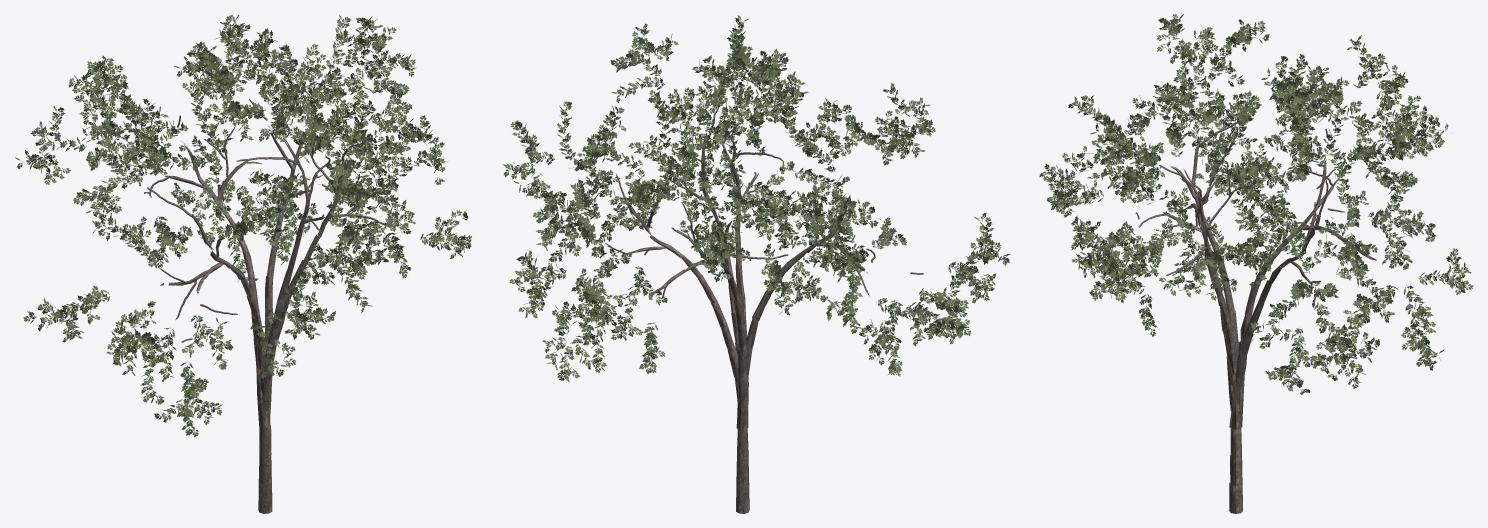
Rendered from elm3.glb.
The picture shows the model from 3 angles, left to right: view 1: azimuth 30°, elevation 25°; view 2: azimuth 150°, elevation 25°; view 3: azimuth 270°, elevation 25°; orthographic projection. The views are drawn at different scales.
Parts seen in each view (by area): view 1: leaves, bark; view 2: leaves, bark; view 3: leaves, bark.
Boxes of the visible parts, x1,y1,x2,y2 form: leaves: (15,15,471,437); bark: (144,93,395,513); leaves: (502,15,1010,382); bark: (592,97,923,513); leaves: (1039,14,1473,394); bark: (1135,119,1376,513).
Bounding box in the file's own units: 30.17 × 32.54 × 27.62.
2 materials, 2 textured.
